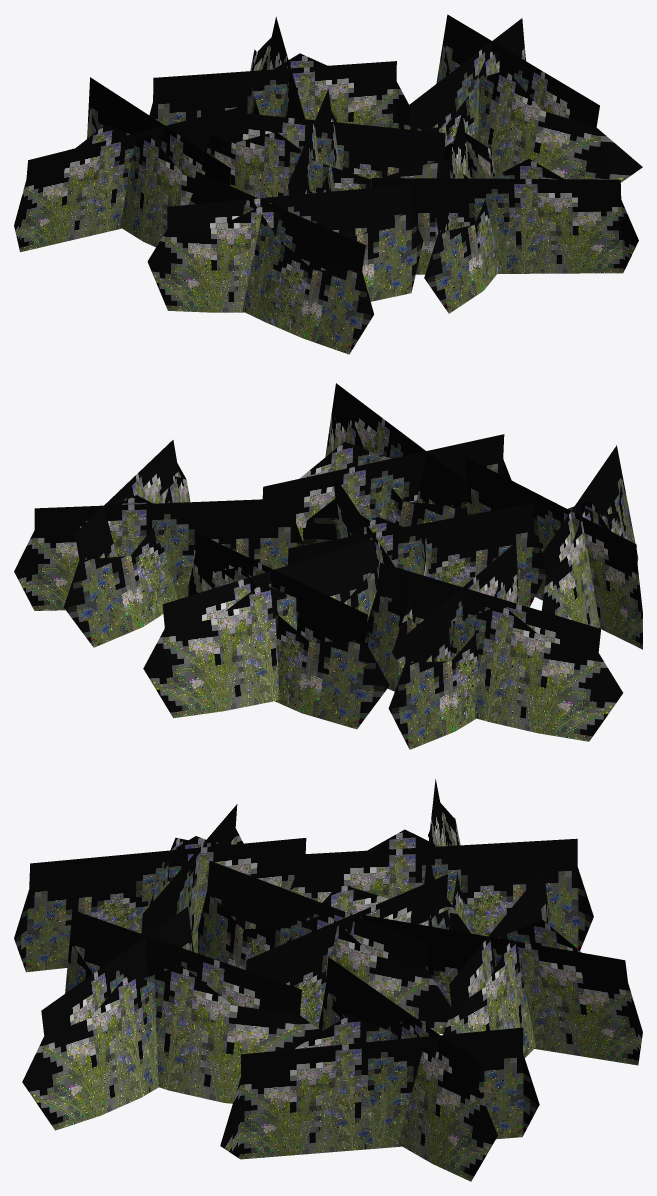
The model's file is grass_flowers02.glb.
3 views of the same model, one above another, from view 1: azimuth 30°, elevation 25°; view 2: azimuth 150°, elevation 25°; view 3: azimuth 270°, elevation 25° (orthographic). The views are drawn at different scales.
Parts seen in each view (by area): view 1: Grass_Flowers02_LOD0; view 2: Grass_Flowers02_LOD0; view 3: Grass_Flowers02_LOD0.
Part boxes in pixels (bbox=[...]): Grass_Flowers02_LOD0: bbox=[14, 14, 642, 354]; Grass_Flowers02_LOD0: bbox=[14, 383, 642, 749]; Grass_Flowers02_LOD0: bbox=[14, 779, 642, 1181].
Bounding box in the file's own units: 5.21 × 1.03 × 4.54.
1 material, 1 textured.
